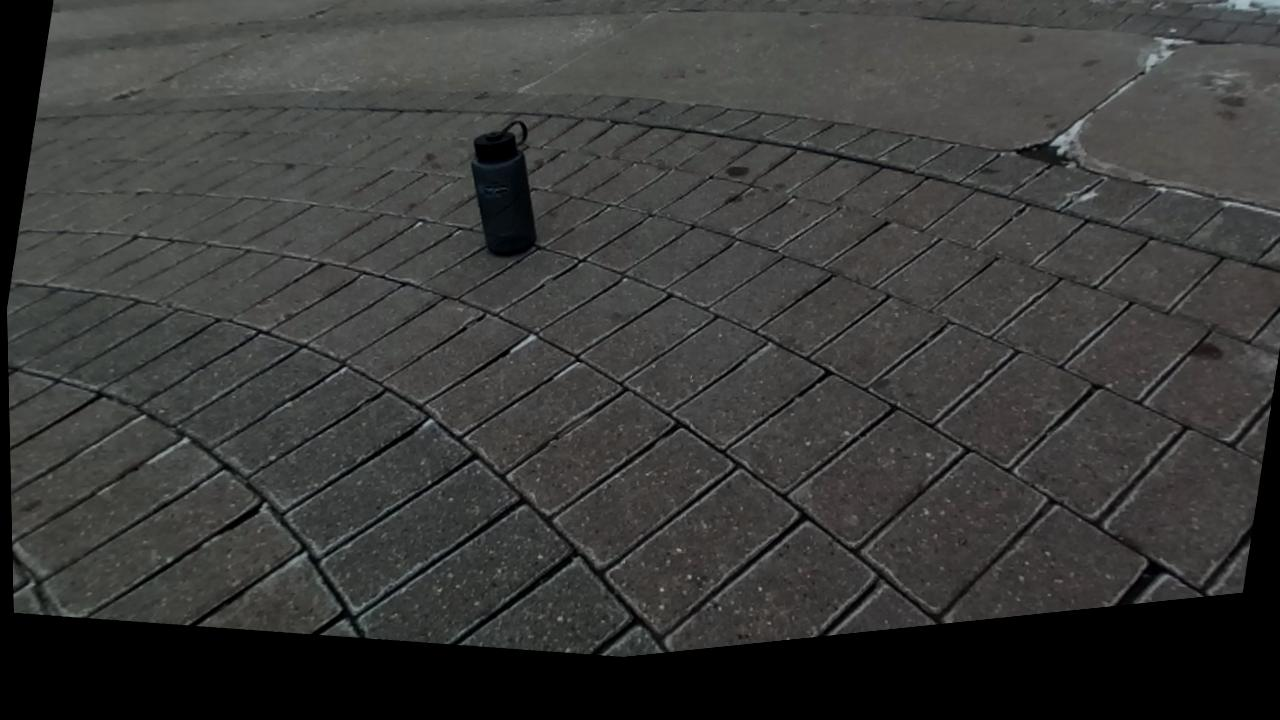bottle: (471, 120, 536, 255)
